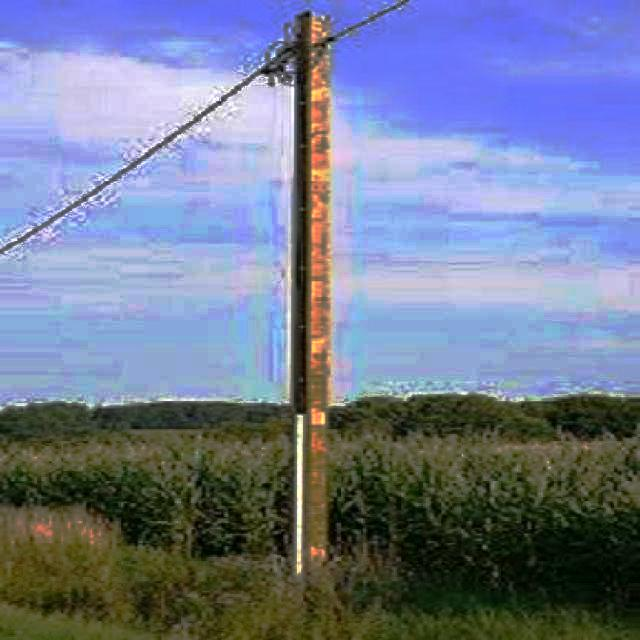poles: (292, 11, 328, 581)
wires: (6, 39, 289, 261), (332, 0, 431, 59)
